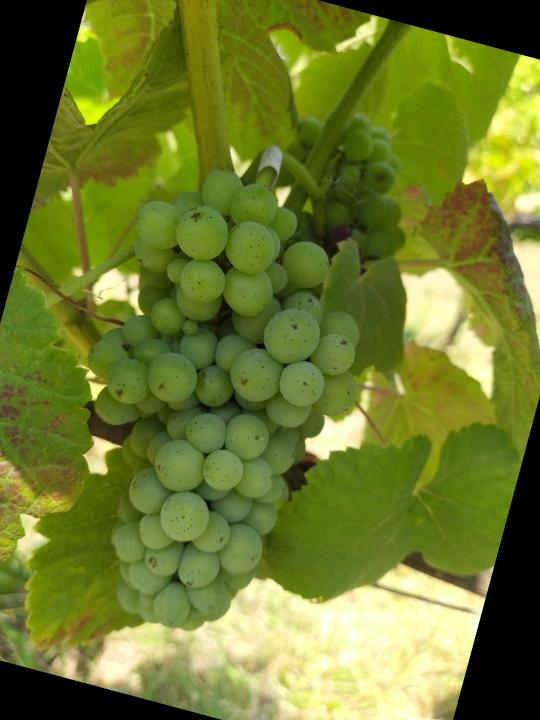grape: (20, 145, 392, 658)
